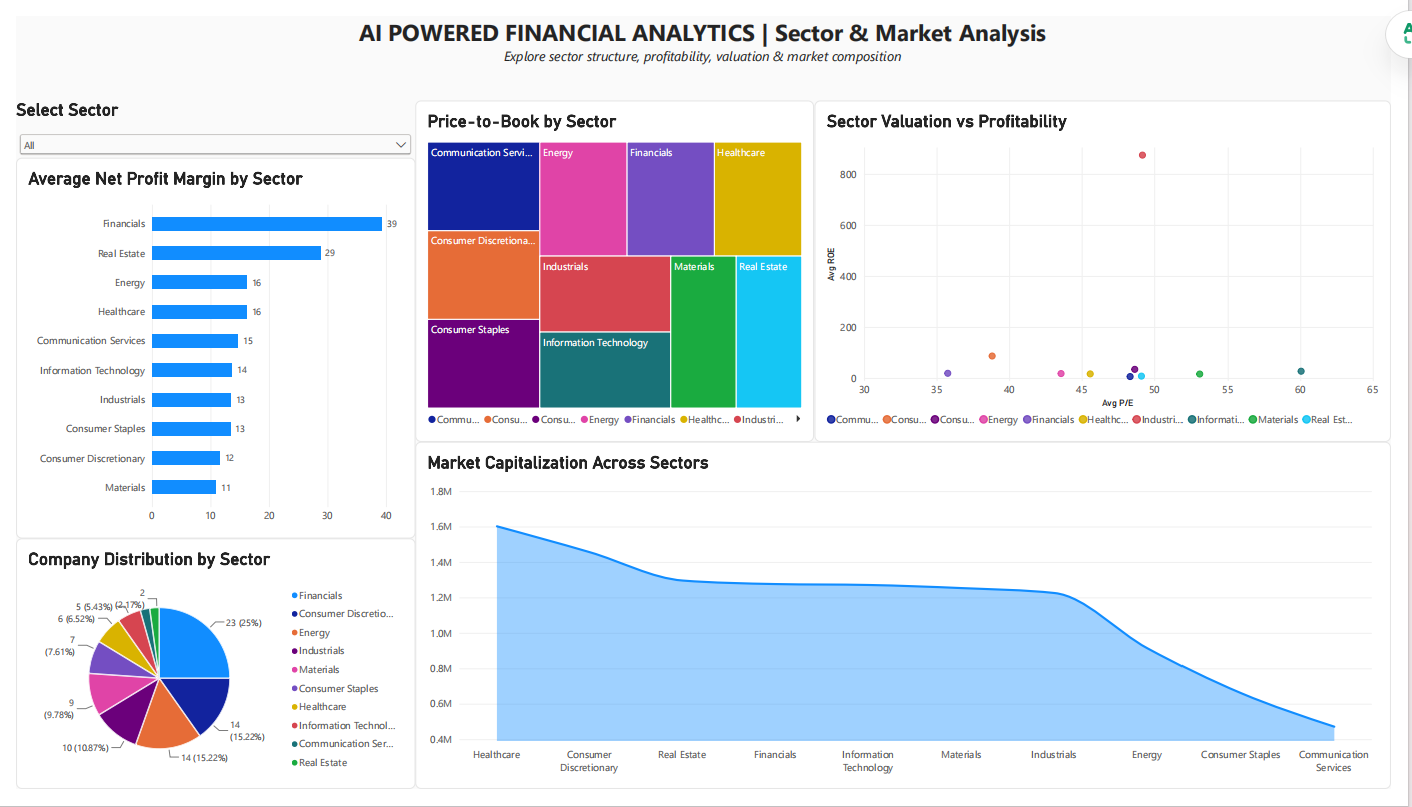

The page's visual inventory and layout, read from the dashboard file:
{"tool":"powerbi","page":{"name":"SECTOR & MARKET ANALYSIS","canvas":[1920,1080],"ordinal":3},"visuals":[{"type":"textbox","box":[0,0,1920,116.7],"z":0},{"type":"slicer","title":"Select Sector","fields":{"Values":["financial_analytics sector_performance.broad_sector"]},"box":[0,116.7,556.7,80],"z":1000},{"type":"pieChart","title":"Company Distribution by Sector","fields":{"Category":["financial_analytics sectors.broad_sector"],"Y":["Count(financial_analytics sectors.company_id)"]},"box":[0,730,557.5,350],"z":2000},{"type":"barChart","title":"Average Net Profit Margin by Sector","fields":{"Category":["financial_analytics sector_performance.broad_sector"],"Y":["Avg(financial_analytics sector_performance.avg_net_profit_margin_pct)"]},"box":[0,197.5,557.5,532.5],"z":3000},{"type":"areaChart","title":"Market Capitalization Across Sectors","fields":{"Category":["financial_analytics sector_performance.broad_sector"],"Y":["Avg(financial_analytics sector_performance.avg_market_cap_crore)"]},"box":[557.5,595,1362.5,485],"z":4000},{"type":"treemap","title":"Price-to-Book by Sector","fields":{"Group":["financial_analytics sector_performance.broad_sector"],"Values":["CountNonNull(financial_analytics sector_performance.avg_pe_ratio)"]},"box":[557.5,117.5,557.5,477.5],"z":5000},{"type":"scatterChart","title":"Sector Valuation vs Profitability","fields":{"X":["financial_analytics sector_performance.avg_pe_ratio"],"Y":["financial_analytics sector_performance.avg_roe_pct"],"Series":["financial_analytics sector_performance.broad_sector"]},"box":[1116,118,804,477],"z":6000}]}

Visuals, with their boxes in screenshot pixels (x1, y1, x2, y2), scaled from the page's 1920x1080 canvas onto the 1412x807 screenshot:
textbox: 0:0:1411:87
"Select Sector" slicer: 0:87:409:147
"Company Distribution by Sector" pieChart: 0:545:410:806
"Average Net Profit Margin by Sector" barChart: 0:148:410:545
"Market Capitalization Across Sectors" areaChart: 410:445:1411:806
"Price-to-Book by Sector" treemap: 410:88:820:445
"Sector Valuation vs Profitability" scatterChart: 821:88:1411:445
